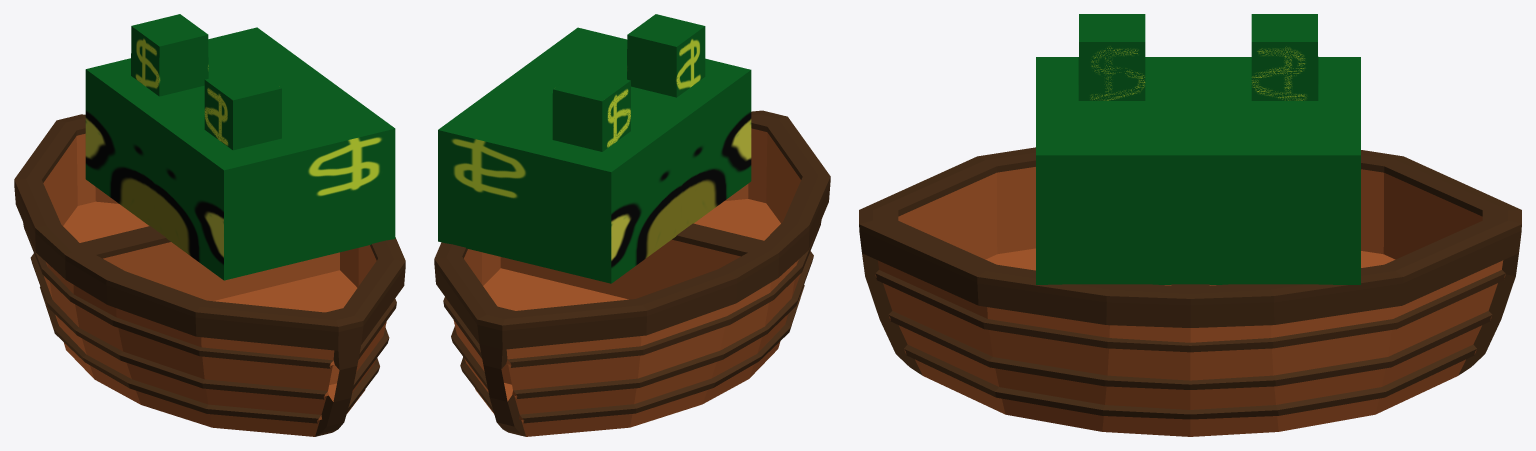
The model's file is Cassino 2Saltitante.fbx.
3 views of the same model, side by side, from view 1: azimuth 30°, elevation 25°; view 2: azimuth 150°, elevation 25°; view 3: azimuth 270°, elevation 25° (orthographic). The views are drawn at different scales.
Parts seen in each view (by area): view 1: Cube.002, Cube.001, Cube, Cube.003; view 2: Cube.002, Cube.001, Cube, Cube.003; view 3: Cube.002, Cube.001, Cube, Cube.003.
Part boxes in pixels (x1,y1,x2,y2): Cube.002: [85, 27, 395, 280]; Cube.001: [14, 114, 405, 436]; Cube: [43, 133, 386, 436]; Cube.003: [131, 14, 281, 150]; Cube.002: [438, 27, 751, 283]; Cube.001: [434, 110, 830, 436]; Cube: [453, 128, 800, 436]; Cube.003: [552, 14, 705, 151]; Cube.002: [1036, 57, 1360, 284]; Cube.001: [859, 147, 1521, 419]; Cube: [875, 167, 1505, 436]; Cube.003: [1078, 14, 1318, 100].
Bounding box in the file's own units: 439 × 423 × 740.
4 materials, 2 textured.
